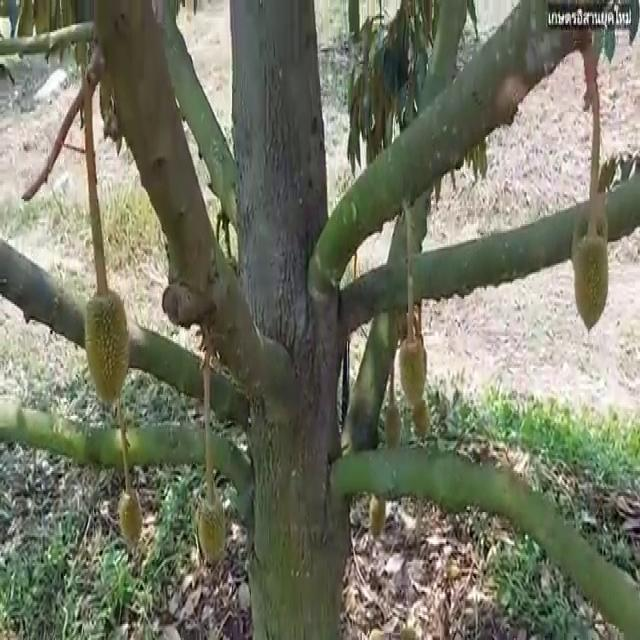durian: (82, 287, 133, 403), (570, 230, 611, 336), (397, 326, 428, 413), (196, 493, 227, 569), (115, 484, 144, 552), (366, 484, 388, 544), (381, 398, 404, 451), (410, 390, 432, 445)
